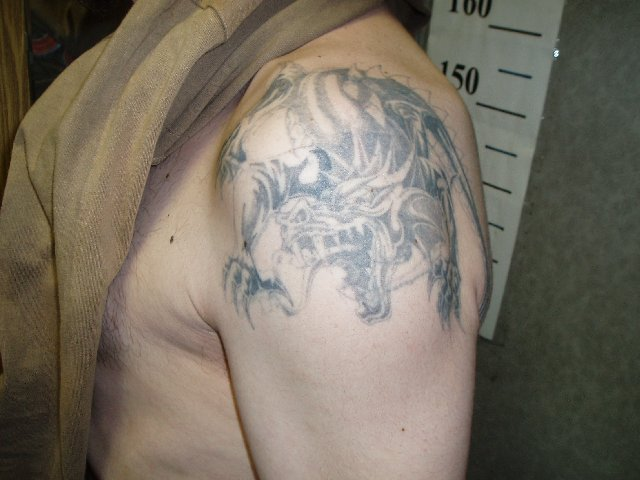tatu6_drakon: (192, 52, 511, 348)
